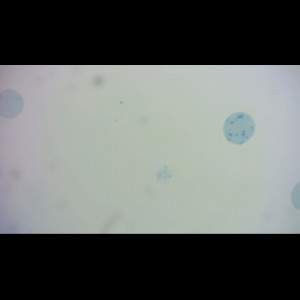aggregate reticulocyte: (222, 111, 256, 145)
